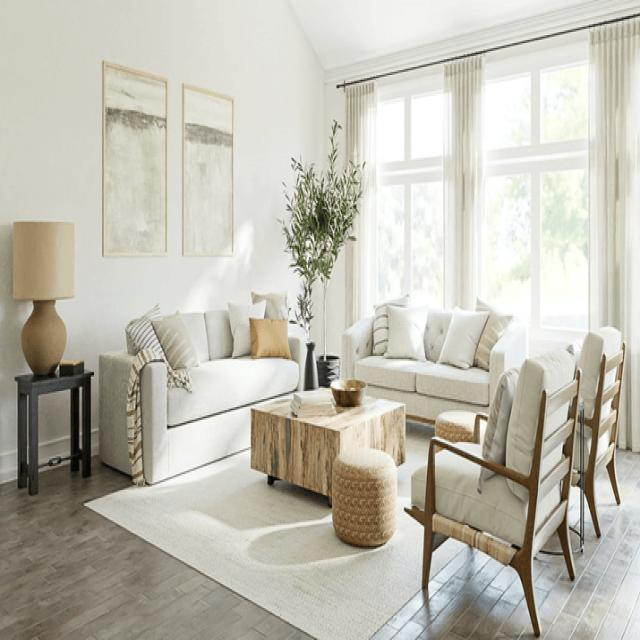modern chair: (406, 334, 577, 640)
modern desk: (249, 385, 402, 496)
modern sofa: (94, 301, 316, 484), (335, 290, 524, 385)
